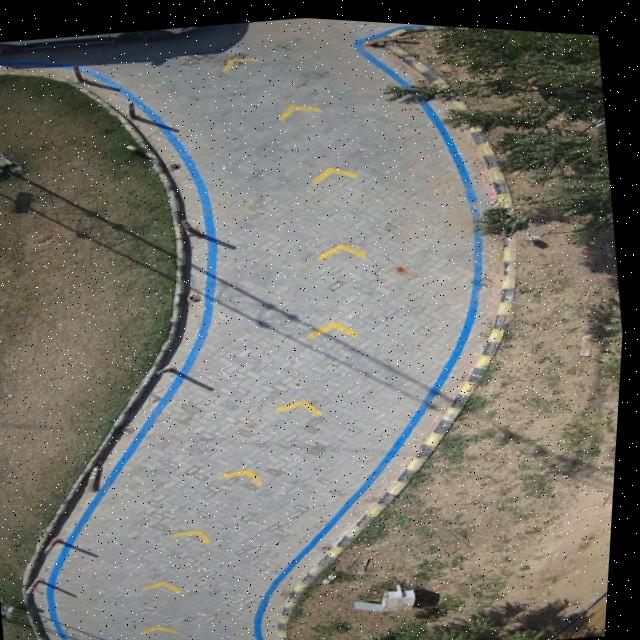car: (0, 31, 120, 43), (124, 23, 201, 31)
